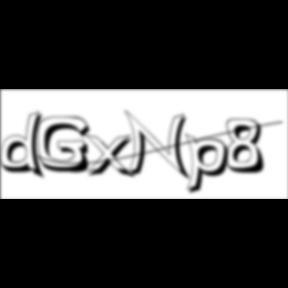8: (226, 117, 272, 176)
G: (38, 116, 97, 176)
N: (125, 109, 195, 183)
d: (0, 110, 50, 182)
p: (185, 132, 235, 198)
x: (84, 132, 140, 181)
